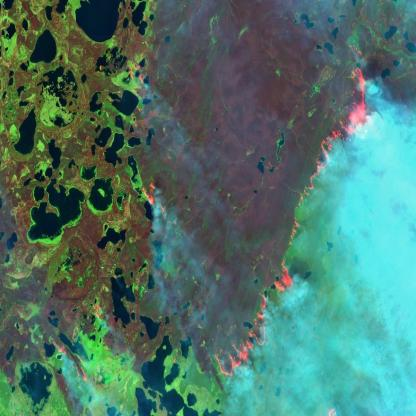fire: (209, 56, 372, 382), (50, 295, 112, 394), (115, 41, 154, 140), (140, 172, 177, 230), (325, 398, 347, 416)
